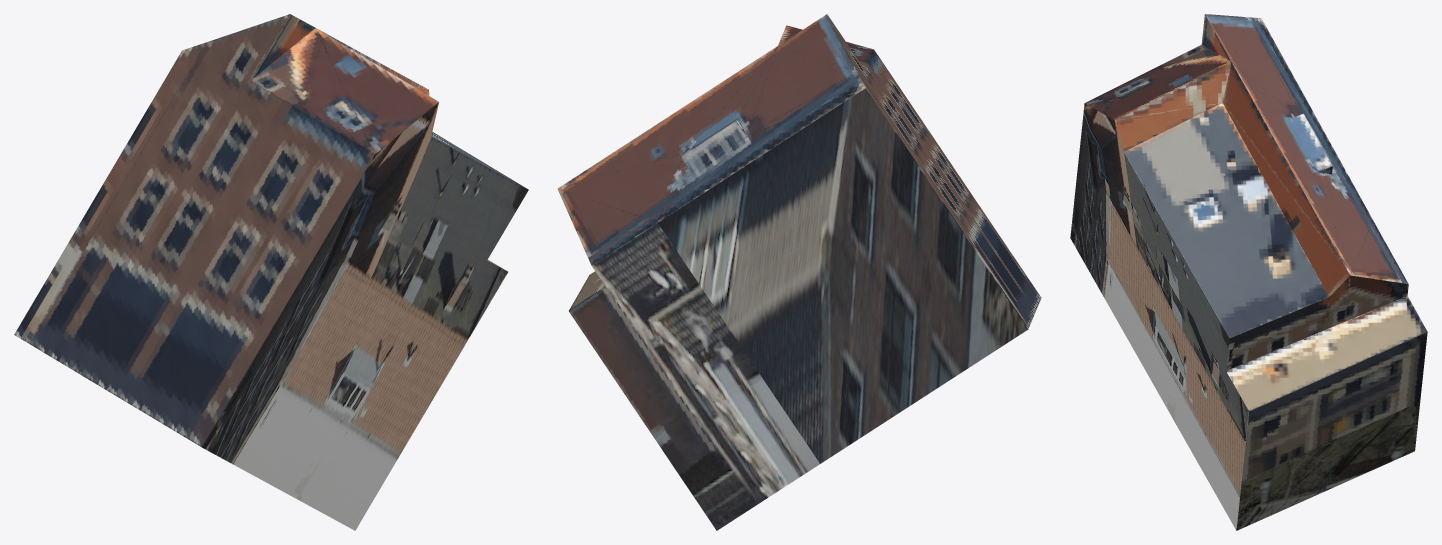
3 renders of one model, left to right at view 1: azimuth 30°, elevation 25°; view 2: azimuth 150°, elevation 25°; view 3: azimuth 270°, elevation 25°, orthographic. The views are drawn at different scales.
Parts seen in each view (by area): view 1: BAG_0599100000760381 (×4); view 2: BAG_0599100000760381 (×6); view 3: BAG_0599100000760381 (×6).
Boxes of the visible parts, x1,y1,x2,y2 form: BAG_0599100000760381 (×4): [14, 14, 528, 530]; BAG_0599100000760381 (×6): [558, 14, 1041, 530]; BAG_0599100000760381 (×6): [1070, 14, 1427, 530].
Size of the model in its own units: 21.05 by 21.94 by 14.76.
1 material, 1 textured.
